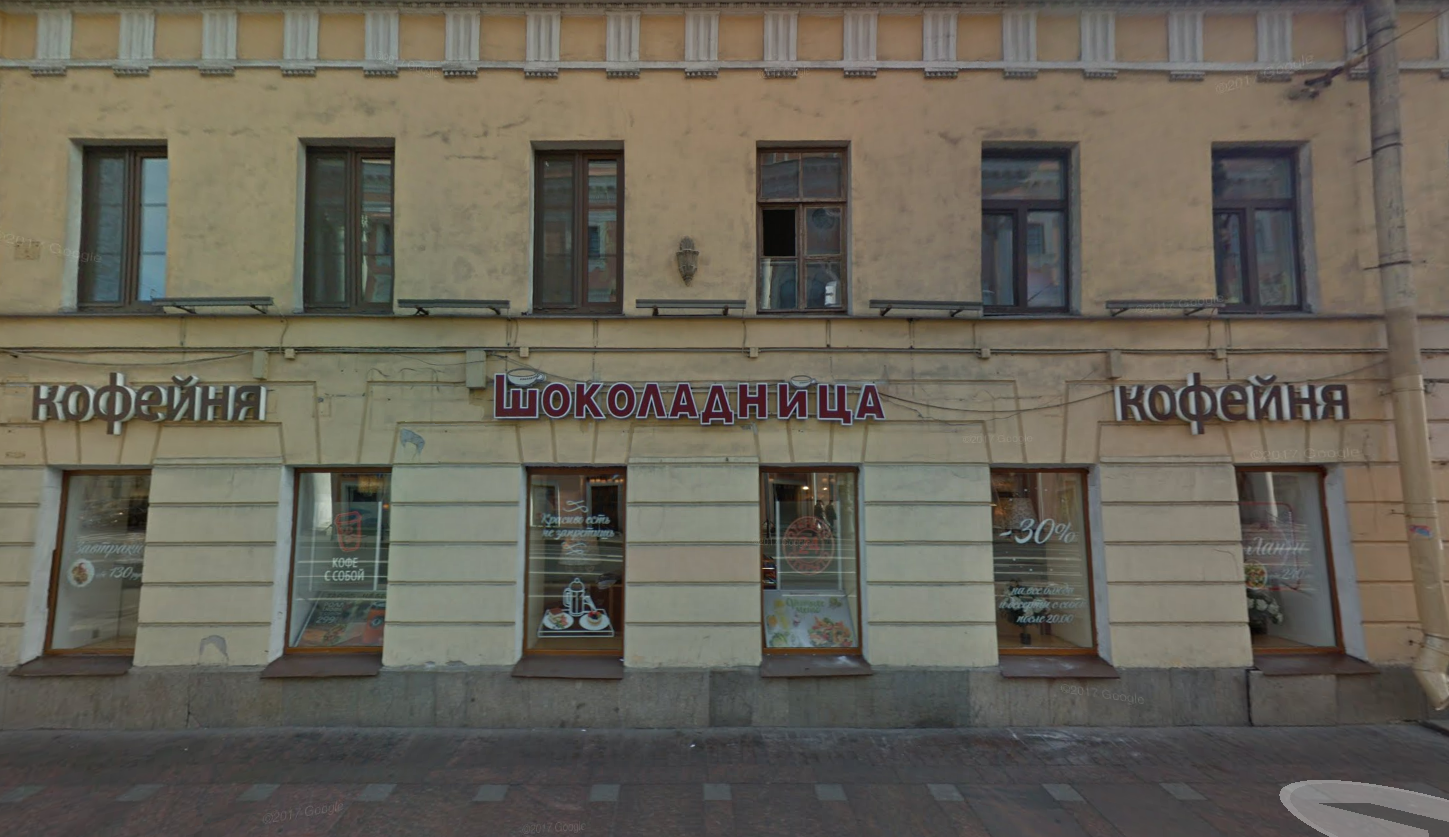signboard: (493, 374, 887, 423), (1120, 373, 1349, 435), (33, 370, 268, 430)
window: (760, 465, 868, 655), (1234, 470, 1342, 656), (992, 464, 1093, 655), (291, 468, 391, 652), (56, 469, 148, 660), (530, 469, 622, 659), (752, 144, 847, 312), (979, 145, 1074, 313), (1213, 142, 1306, 313), (304, 142, 396, 314), (77, 142, 166, 311), (528, 147, 618, 311)
